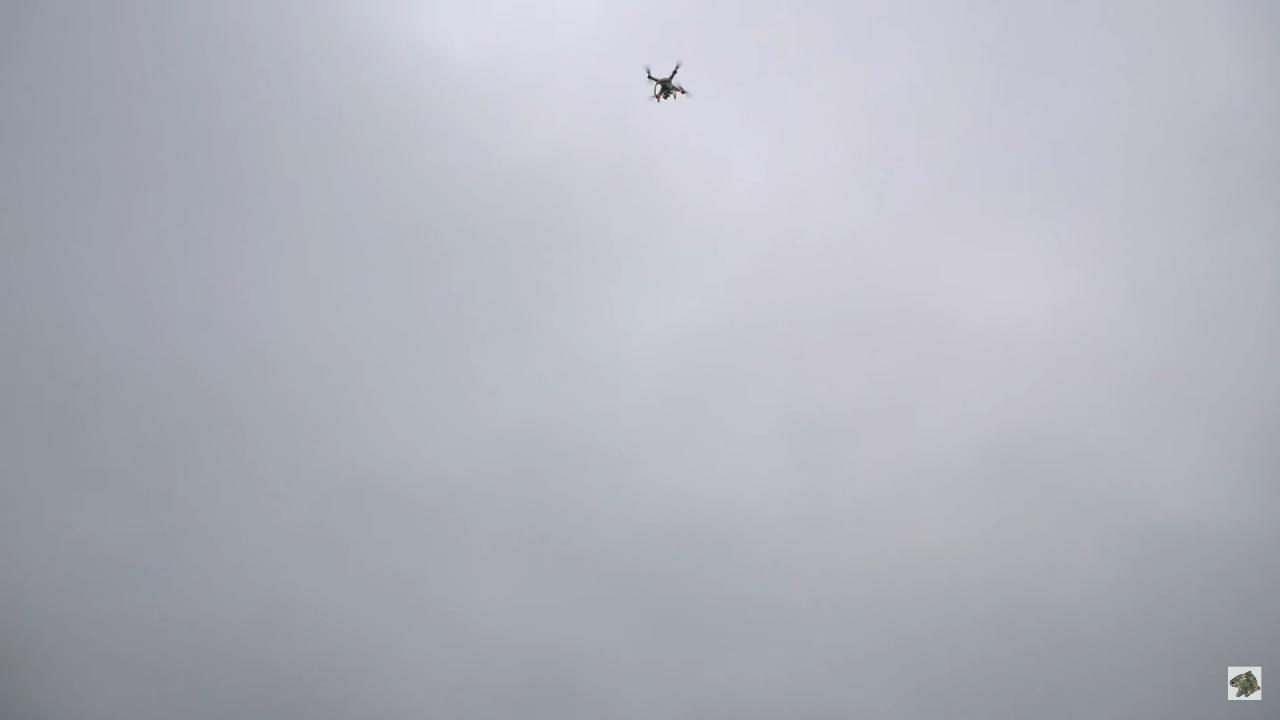Drone: (636, 57, 698, 112)
